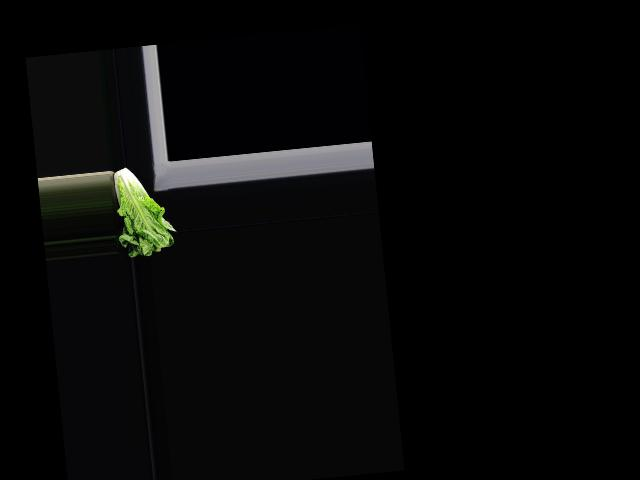lettuce: (111, 162, 177, 260)
